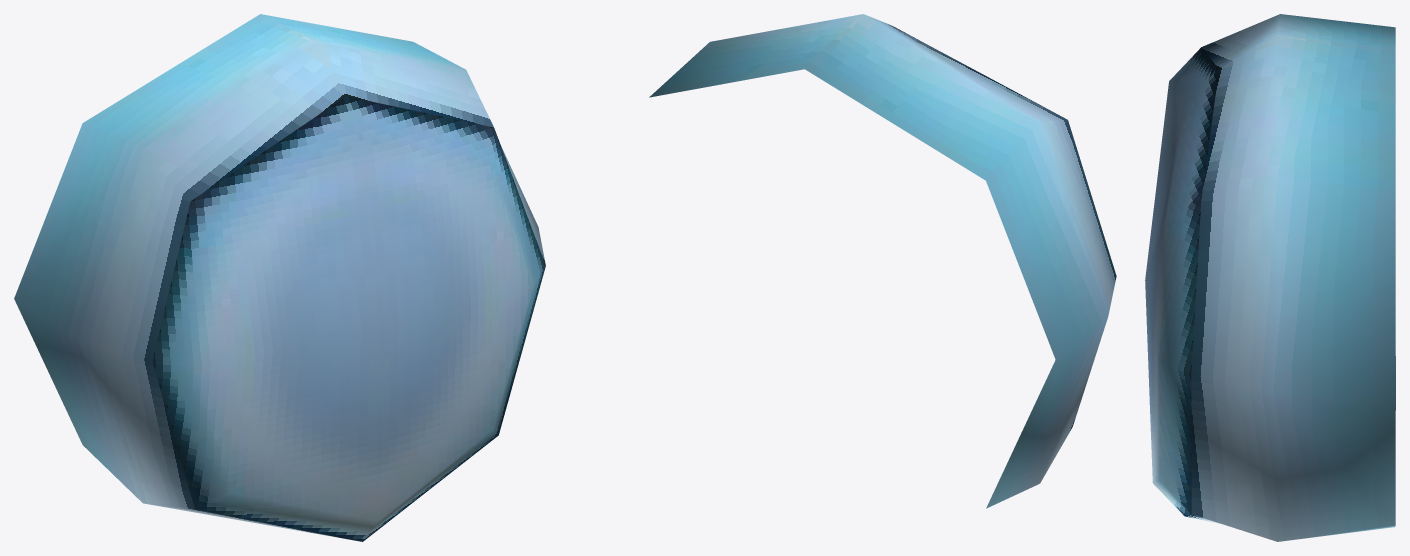
The model's file is tt_m_chr_avt_acc_hat_pillBox.glb.
The picture shows the model from 3 angles, left to right: view 1: azimuth 30°, elevation 25°; view 2: azimuth 150°, elevation 25°; view 3: azimuth 270°, elevation 25°; orthographic projection. The views are drawn at different scales.
Parts seen in each view (by area): view 1: tt_m_chr_avt_acc_hat_pillBox; view 2: tt_m_chr_avt_acc_hat_pillBox; view 3: tt_m_chr_avt_acc_hat_pillBox.
Boxes of the visible parts, x1,y1,x2,y2 form: tt_m_chr_avt_acc_hat_pillBox: (14,14,545,541); tt_m_chr_avt_acc_hat_pillBox: (649,14,1116,508); tt_m_chr_avt_acc_hat_pillBox: (1145,14,1395,541).
Bounding box in the file's own units: 3.08 × 3.03 × 1.37.
1 material, 1 textured.
